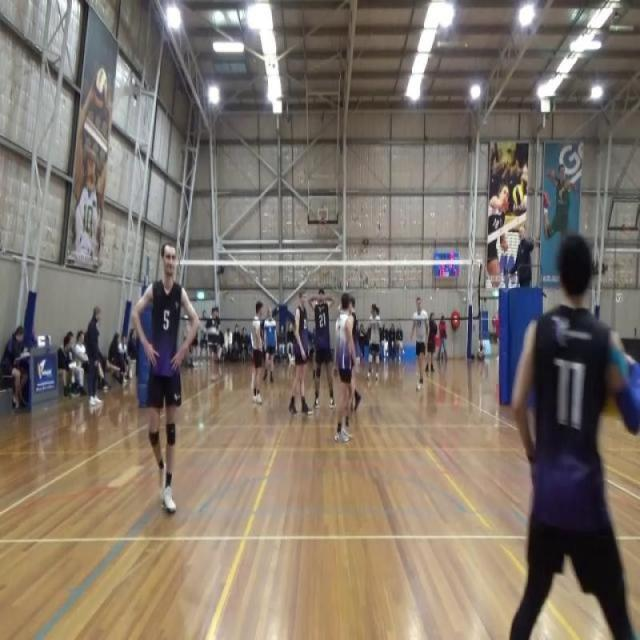volleyball: (94, 69, 107, 107), (600, 395, 618, 418), (512, 182, 524, 205)
